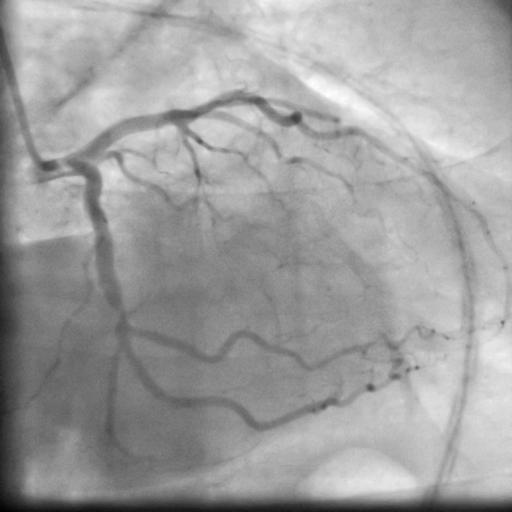Stenosis: (104, 296, 127, 320)
